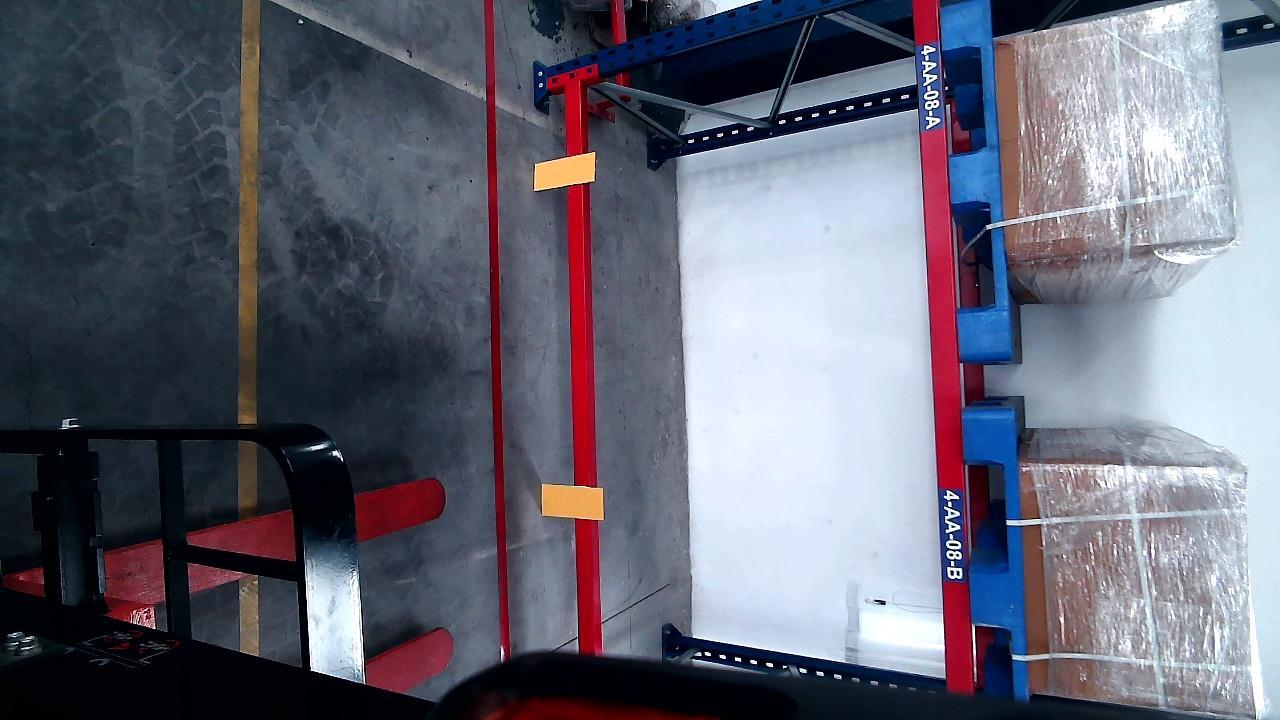red_line: (477, 1, 512, 654)
yellow_line: (235, 0, 262, 419)
